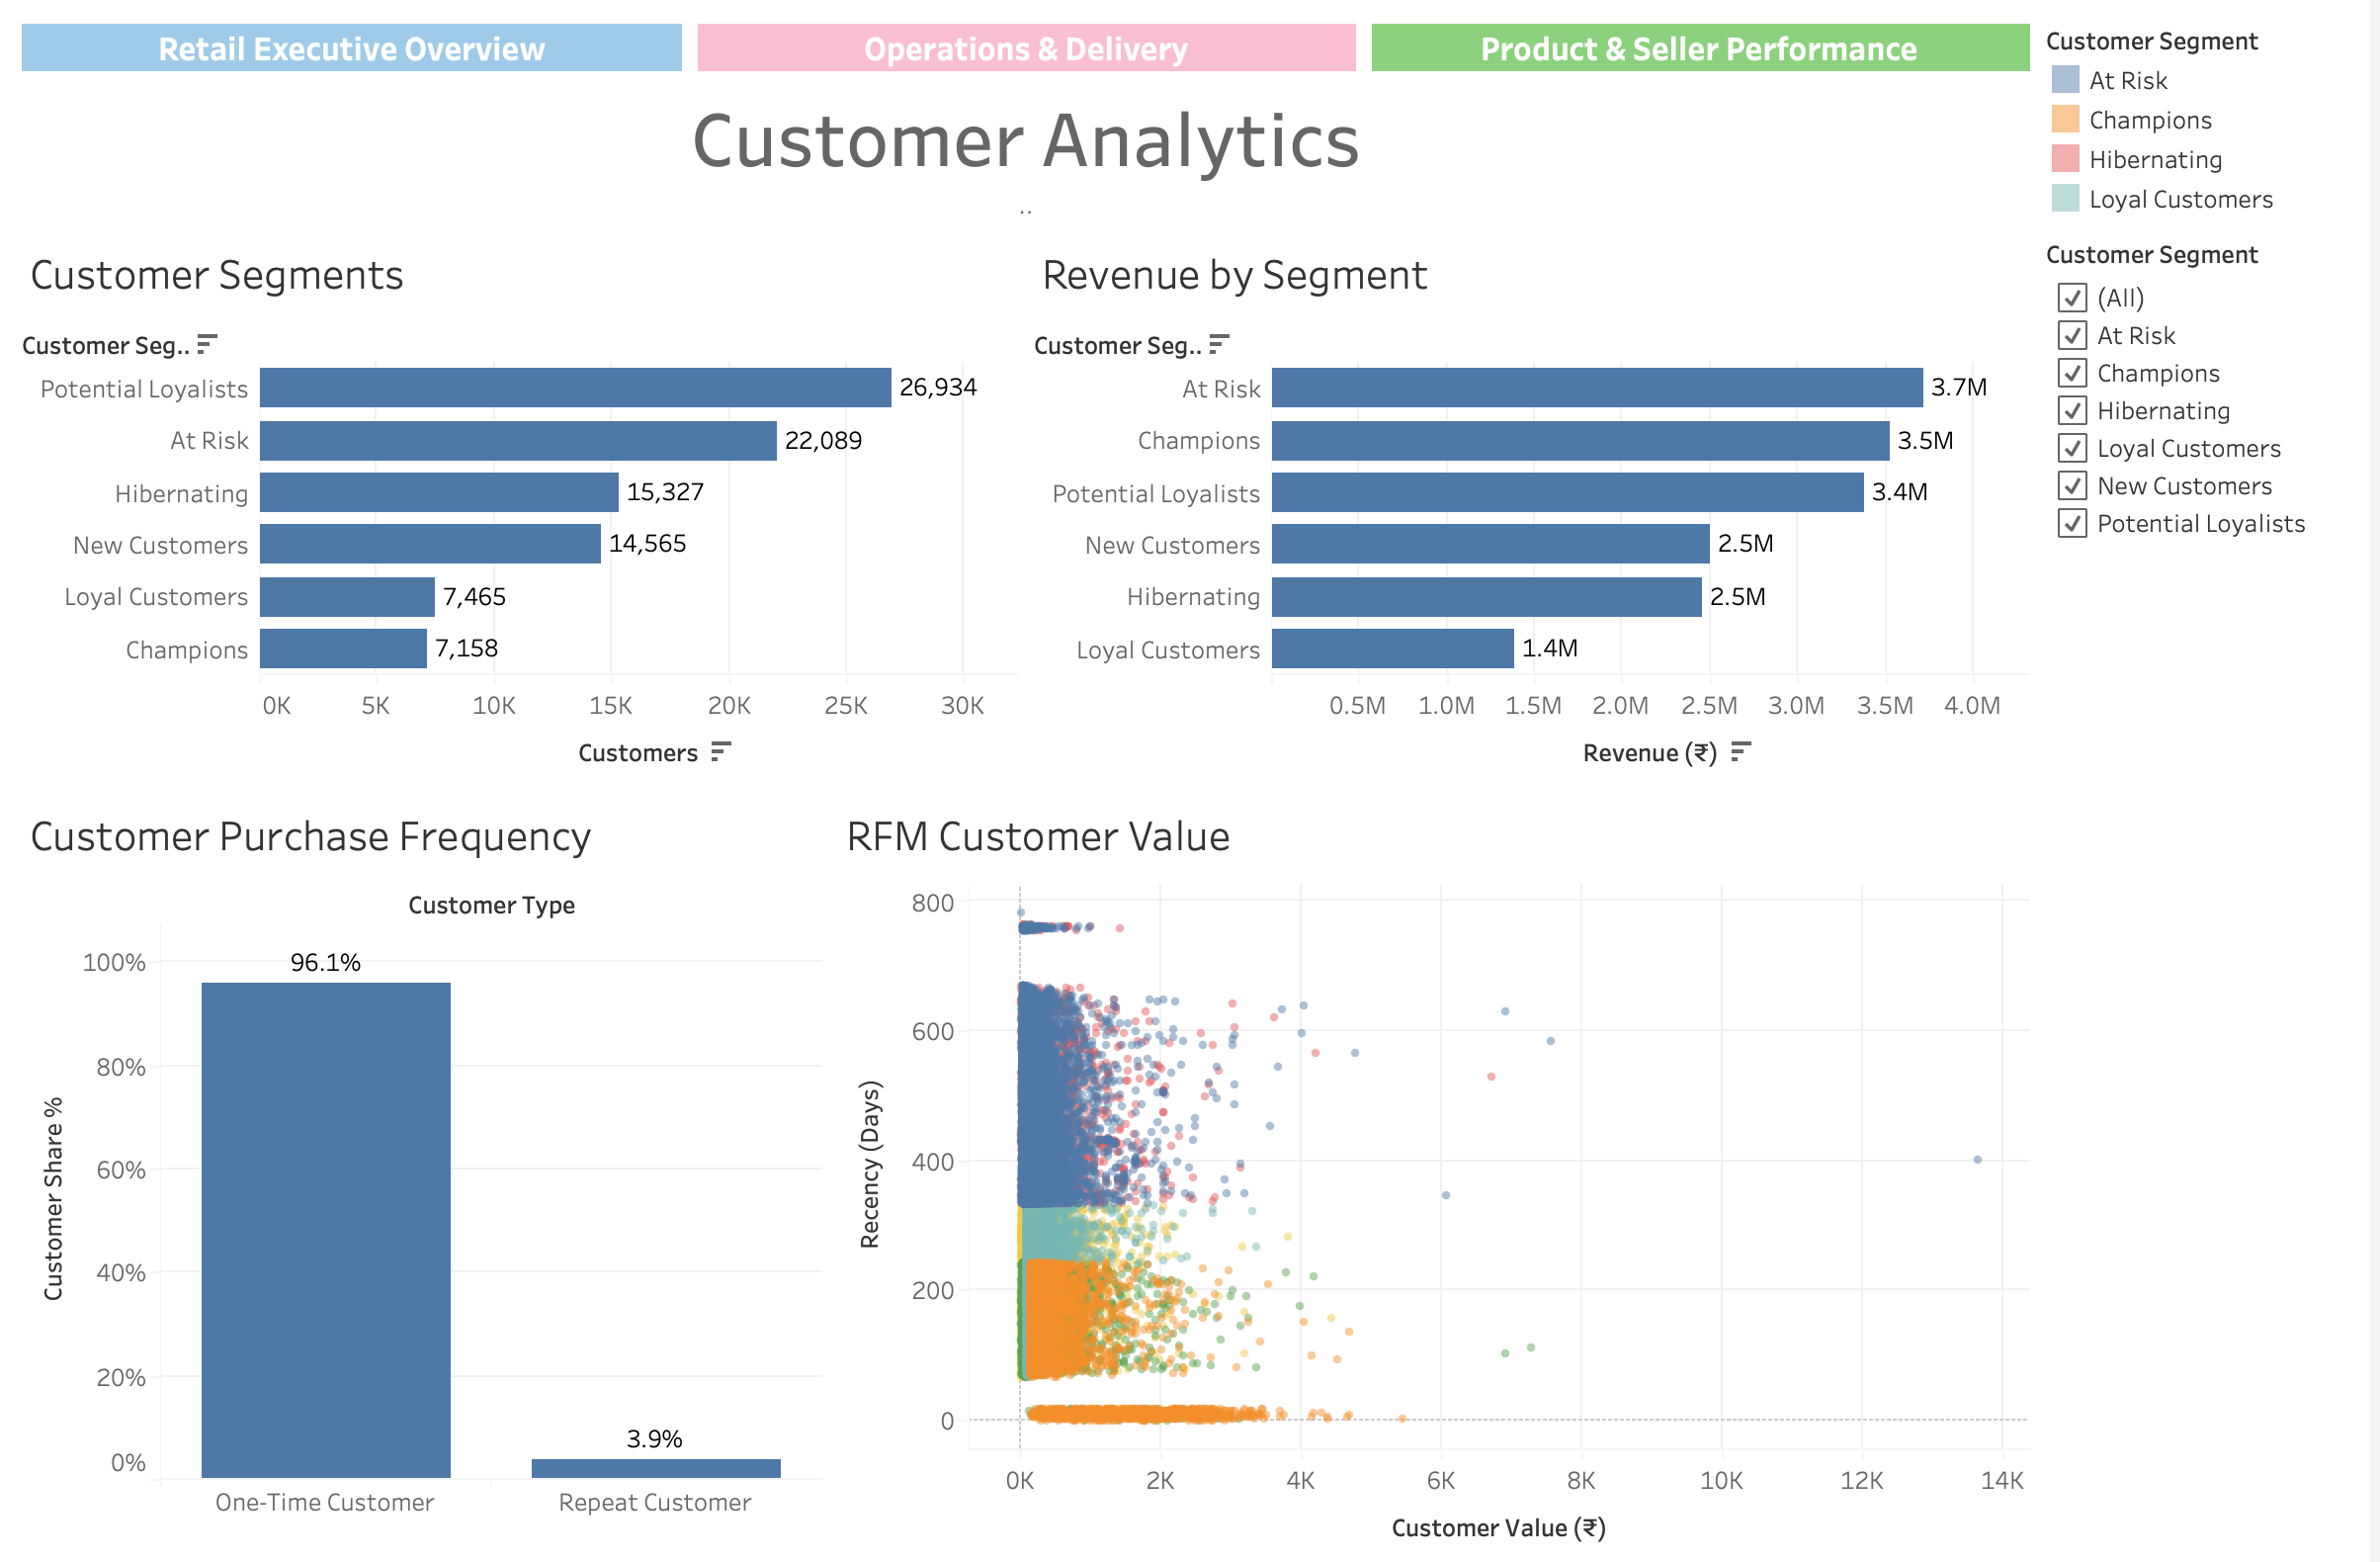

What the dashboard file says about the page in this screenshot:
{"tool":"tableau","page":{"name":"Customer Analytics","canvas":[1200,800],"ordinal":0},"visuals":[{"type":"dashboard-object","box":[8,8,342,32]},{"type":"dashboard-object","box":[350,8,341,32]},{"type":"dashboard-object","box":[691,8,341,32]},{"type":"legend","title":"RFM Customer Value","param":"[federated.10twrd20l3dxcm1amiegy0cx0mo9].[none:customer_segment:nk]","box":[1032,8,160,108]},{"type":"text","box":[8,40,1024,76]},{"type":"worksheet","title":"Customer Segments","mark":"Bar","rows":["customer_segment"],"cols":["customer_unique_id"],"box":[8,116,512,284]},{"type":"worksheet","title":"Revenue by Segment","mark":"Bar","rows":["customer_segment"],"cols":["monetary"],"box":[520,116,512,284]},{"type":"filter","title":"Customer Segments","param":"[federated.10twrd20l3dxcm1amiegy0cx0mo9].[none:customer_segment:nk]","box":[1032,116,160,165]},{"type":"worksheet","title":"Customer Purchase Frequency","mark":"Automatic","rows":["customer_unique_id"],"cols":["Calculation_2406463117512705"],"box":[8,400,413,392]},{"type":"worksheet","title":"RFM Customer Value","mark":"Circle","rows":["recency"],"cols":["monetary"],"box":[421,400,611,392]}]}

Visuals, with their boxes in screenshot pixels (x1, y1, x2, y2), scaled from the page's 1200x800 canvas onto the 2380x1562 screenshot:
dashboard-object: box(16, 16, 694, 78)
dashboard-object: box(694, 16, 1371, 78)
dashboard-object: box(1371, 16, 2047, 78)
"RFM Customer Value" legend: box(2047, 16, 2364, 226)
text: box(16, 78, 2047, 226)
"Customer Segments" worksheet (Bar marks): box(16, 226, 1031, 781)
"Revenue by Segment" worksheet (Bar marks): box(1031, 226, 2047, 781)
"Customer Segments" filter: box(2047, 226, 2364, 549)
"Customer Purchase Frequency" worksheet: box(16, 781, 835, 1546)
"RFM Customer Value" worksheet (Circle marks): box(835, 781, 2047, 1546)
